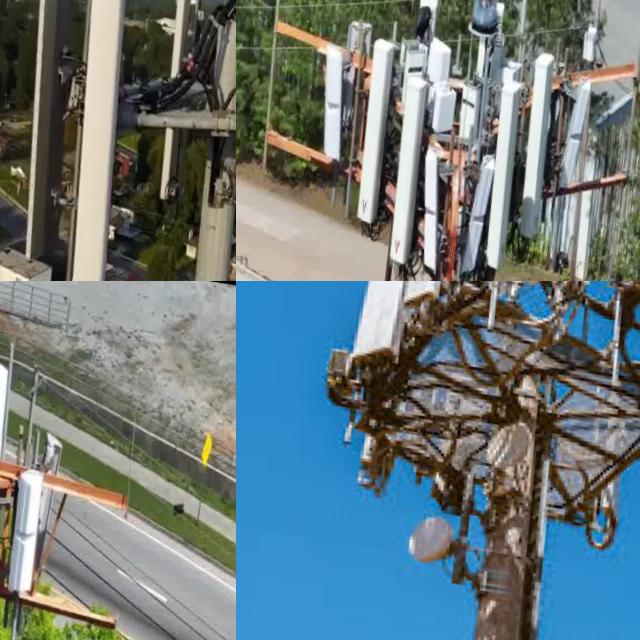GSM Antenna: (16, 0, 82, 281), (70, 0, 127, 281), (138, 0, 212, 213), (374, 73, 438, 281), (506, 43, 567, 247), (343, 34, 405, 233), (470, 74, 529, 281), (343, 281, 421, 375), (0, 461, 50, 603), (200, 0, 236, 191), (404, 137, 452, 278), (303, 36, 353, 165), (392, 281, 466, 319), (426, 76, 461, 138), (0, 349, 16, 469)
Microwave Antenna: (400, 509, 458, 570), (482, 419, 533, 475), (501, 281, 550, 294)
